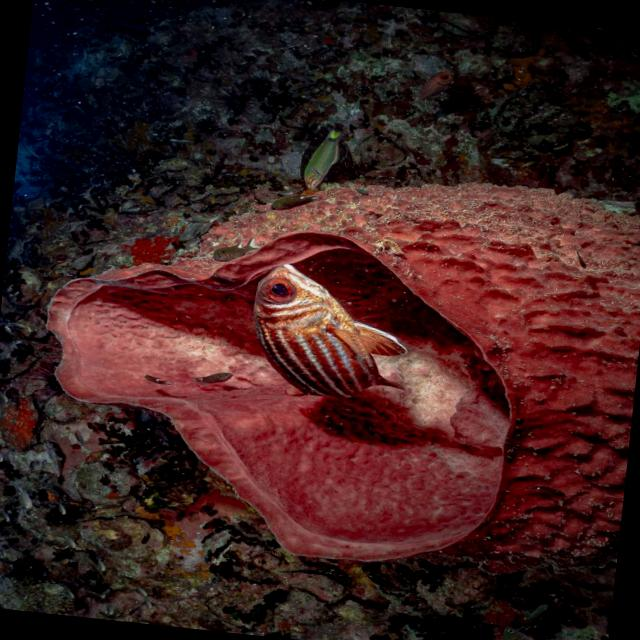Asker Baligi: (240, 258, 418, 409)
